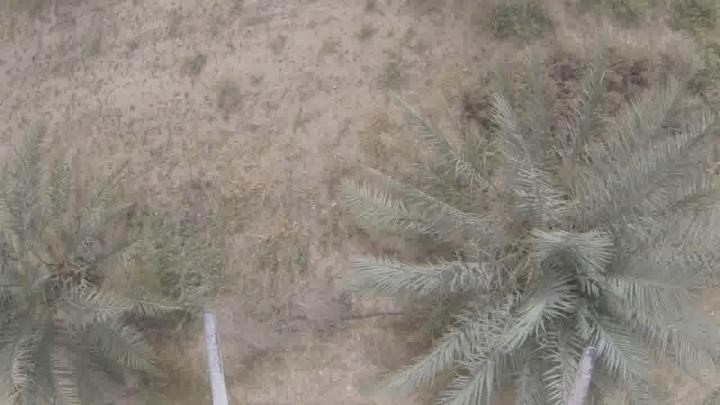Date-Palm-Crown: (440, 151, 692, 382), (0, 193, 114, 371)
